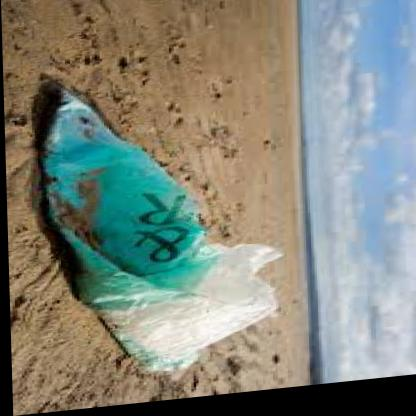Plastic: (44, 78, 280, 393)
